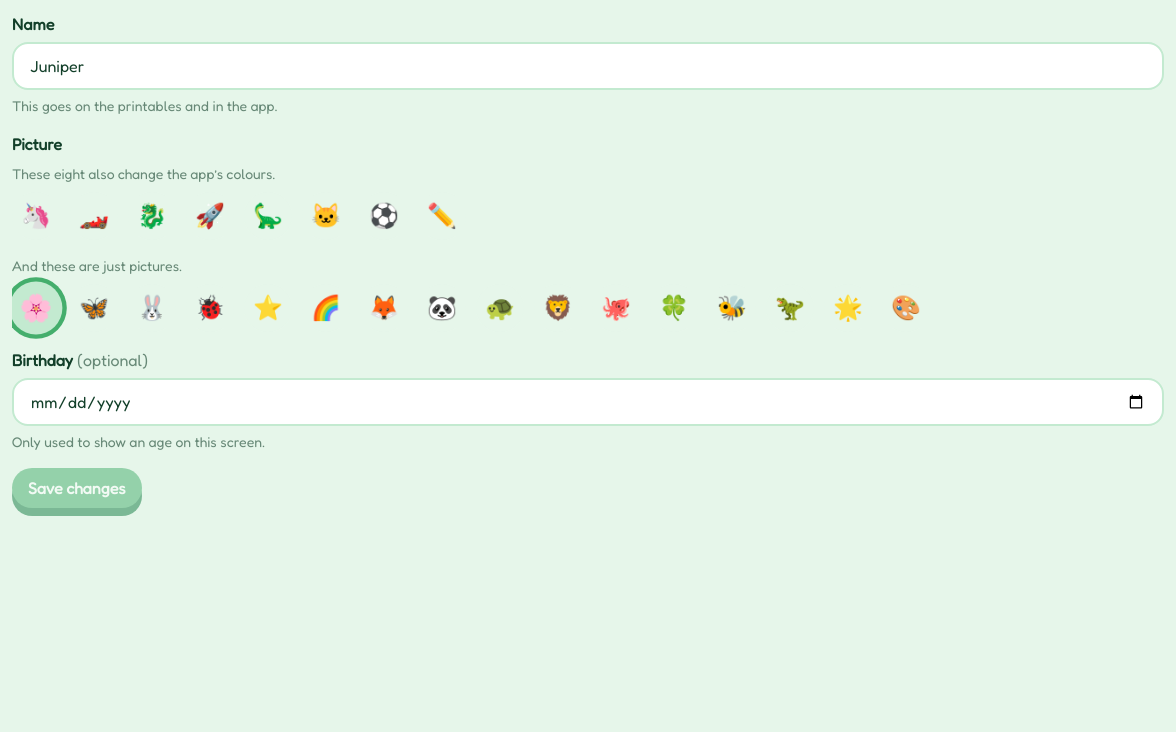
Scenario: editing a child › will not save until something has changed
Expected: the button "Save changes" is disabled, [12,468,142,508]
Replace the text in the field labelled "Name This goes on the printables and in the app." with "Xanthi" at x=588, y=66, box [12,42,1164,90]
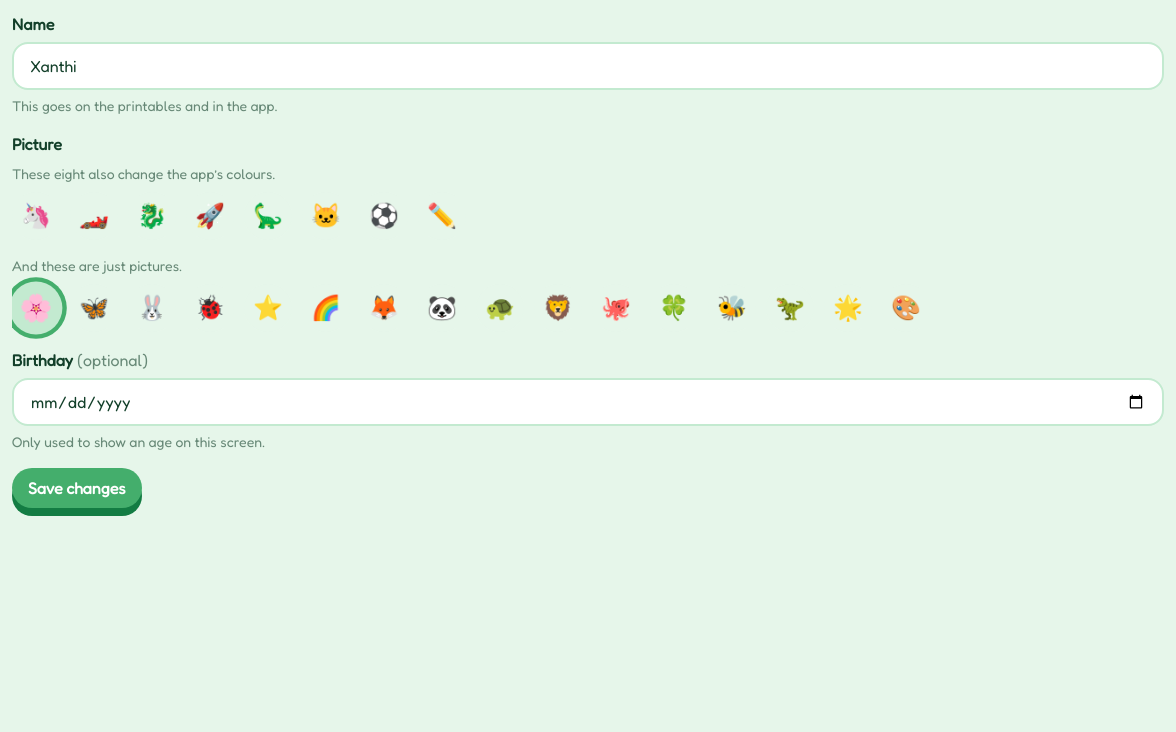
Expected: the button "Save changes" is enabled, [12,468,142,508]
